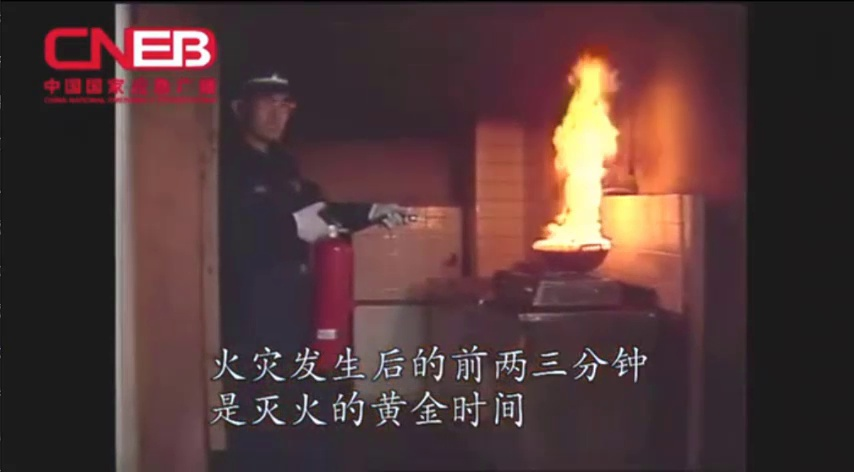fire: (515, 45, 625, 265)
